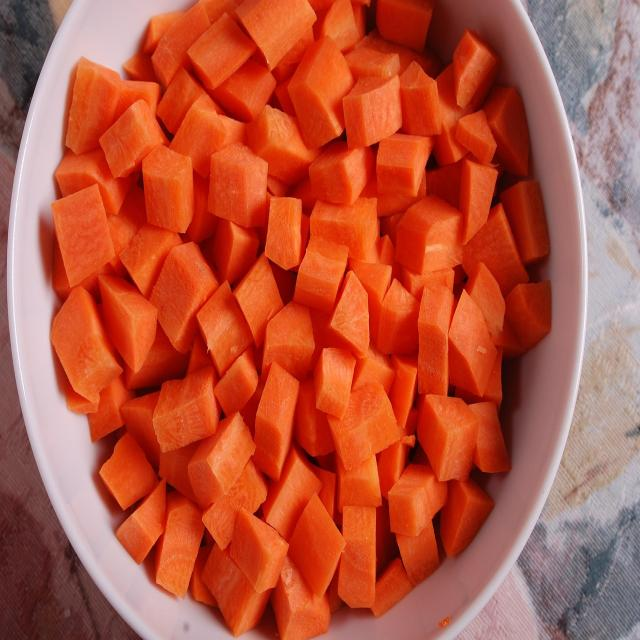ca rot: (50, 0, 551, 639)
